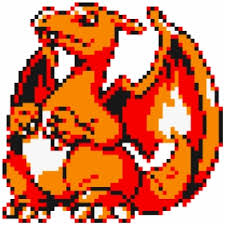charizard: (1, 1, 224, 225)
